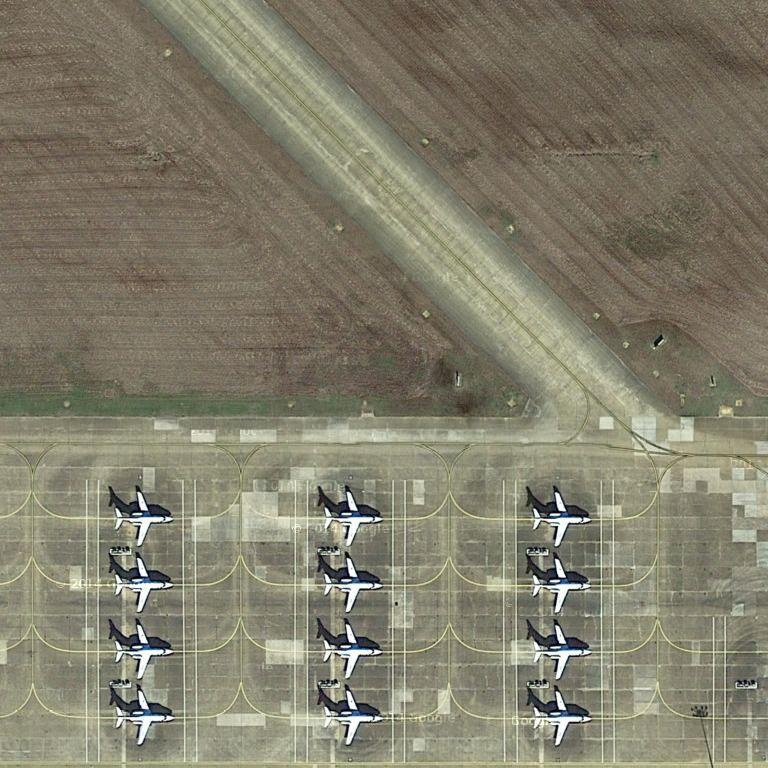plane: (111, 556, 178, 616), (319, 622, 385, 681), (111, 688, 177, 745), (526, 491, 594, 546), (530, 689, 594, 747), (530, 555, 595, 612), (318, 690, 386, 744), (319, 556, 384, 612), (527, 624, 595, 676), (111, 490, 176, 544), (111, 623, 176, 677), (322, 491, 384, 542)
